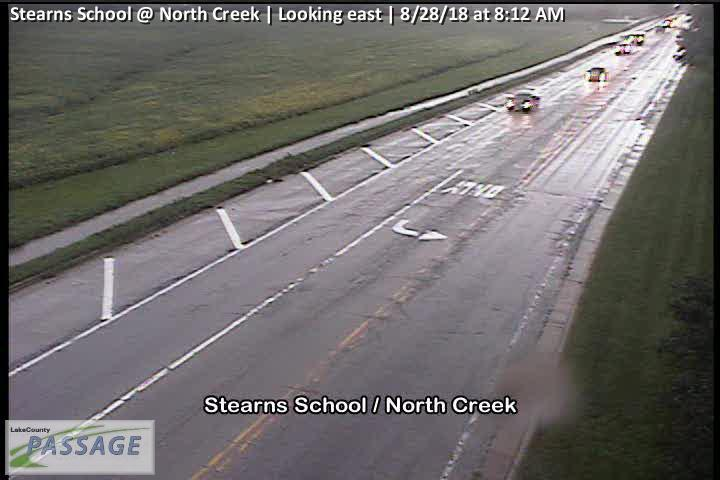Sedan: (501, 89, 541, 113), (583, 66, 609, 83)
